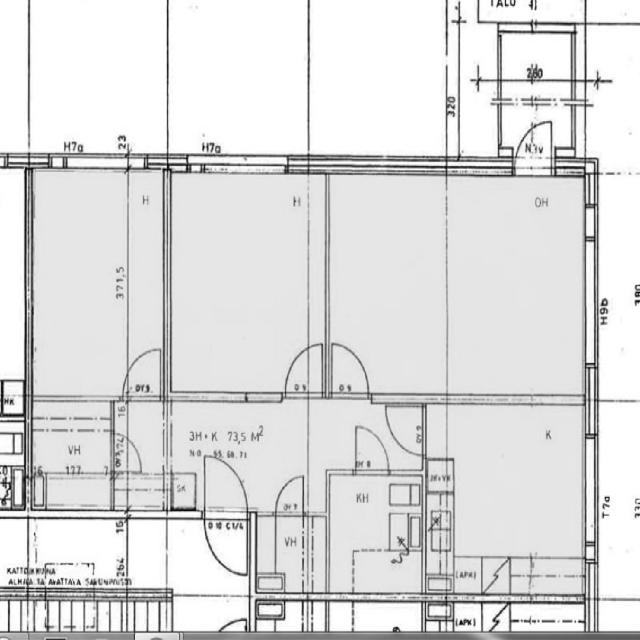door: (202, 449, 253, 578), (511, 118, 554, 186), (116, 342, 164, 401), (326, 333, 368, 399), (382, 400, 428, 460), (286, 338, 326, 400), (353, 426, 394, 482), (274, 476, 310, 516), (111, 432, 141, 472)
window: (279, 148, 448, 182), (577, 362, 607, 453), (144, 147, 189, 185)
zone: (326, 159, 594, 397), (165, 159, 329, 402), (27, 159, 164, 401), (430, 395, 590, 599), (330, 475, 424, 604), (24, 394, 116, 514), (251, 509, 330, 601)
